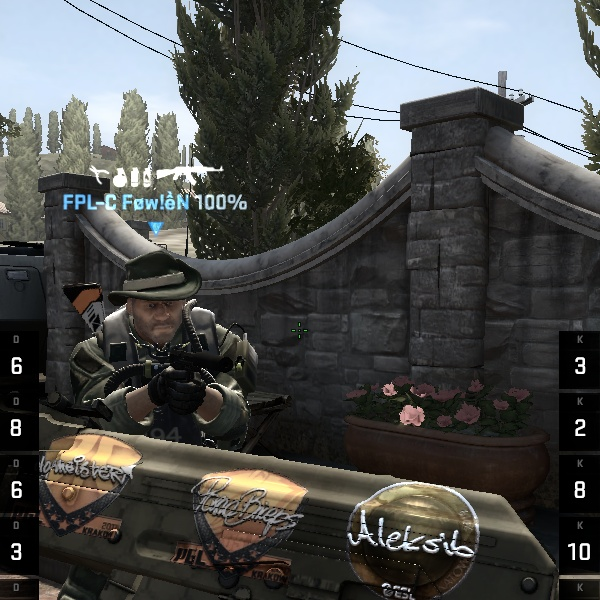ct_body: (30, 242, 268, 595)
ct_head: (102, 244, 209, 348)
